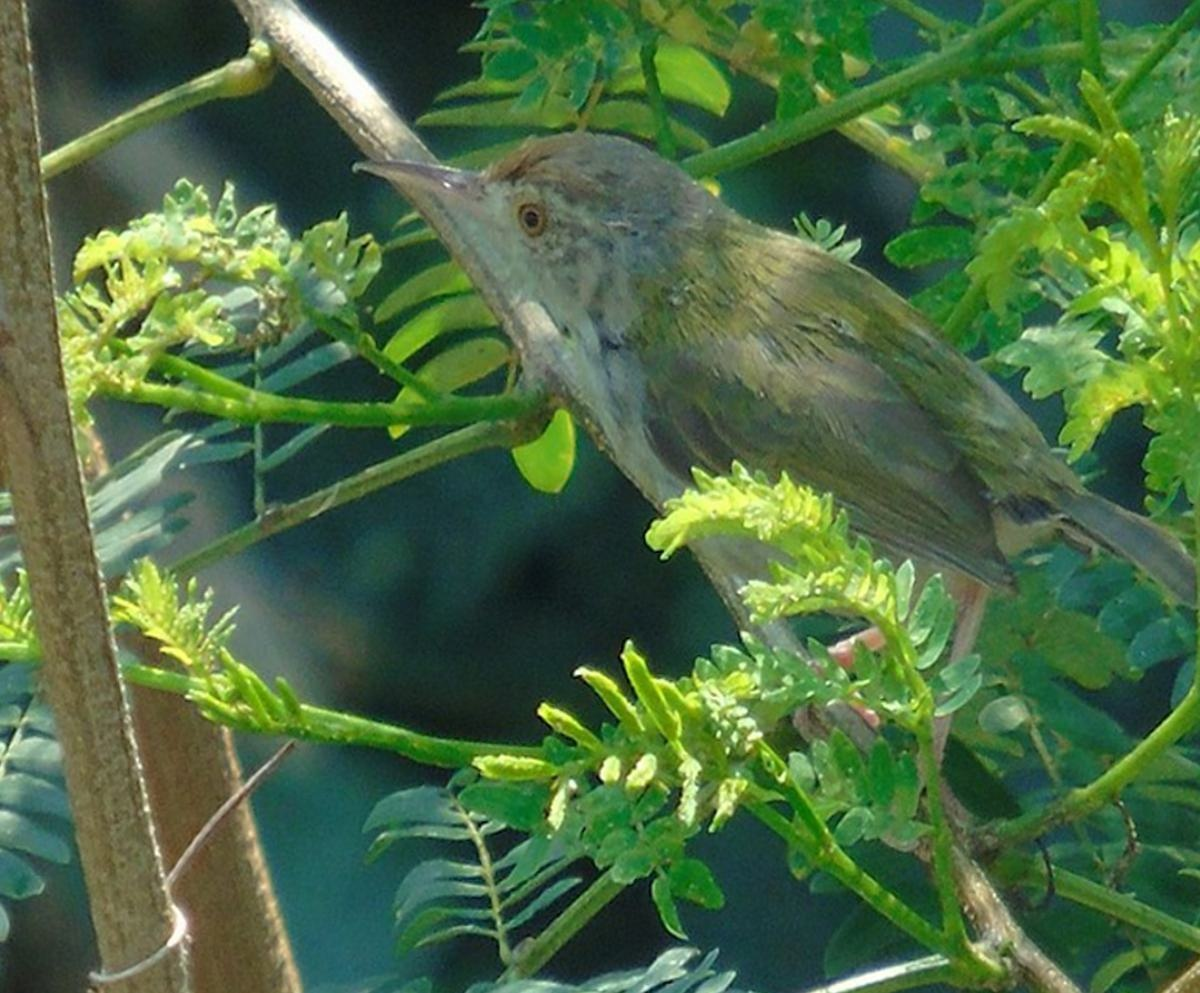tailorbird: (312, 108, 1191, 823)
